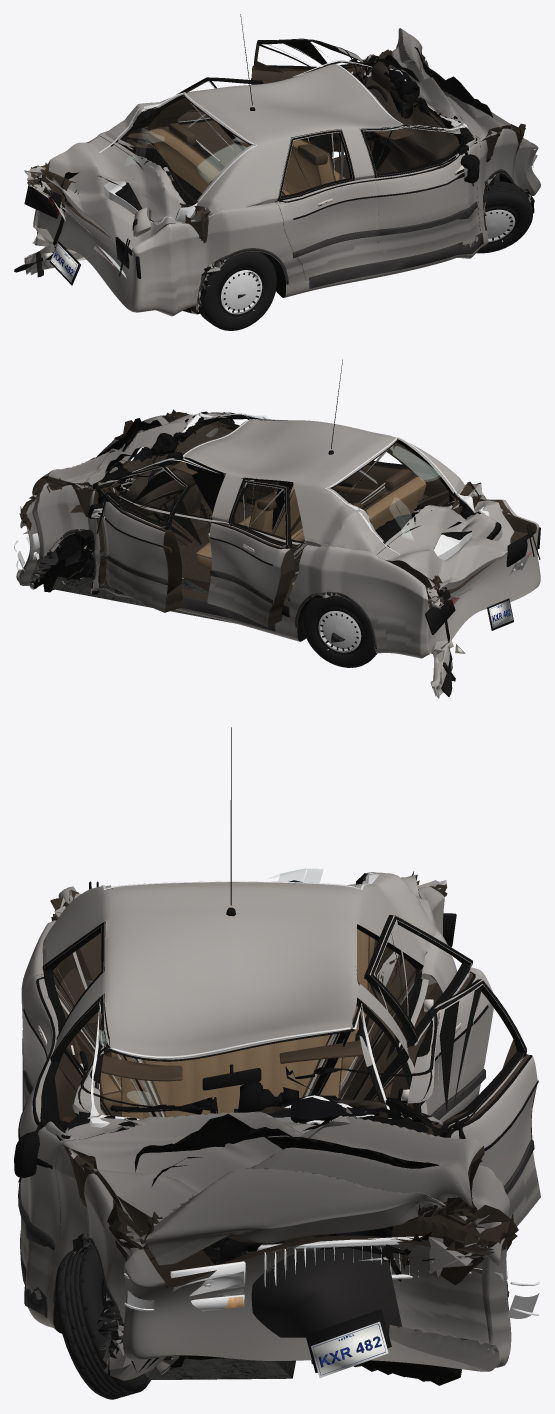
The model's file is sedan87_front_d3_lod1.glb.
3 views of the same model, one above another, from view 1: azimuth 30°, elevation 25°; view 2: azimuth 150°, elevation 25°; view 3: azimuth 270°, elevation 25° (orthographic). The views are drawn at different scales.
Parts seen in each view (by area): view 1: Body, Interior, Door_FR, Trunk, Door_RR, Wheel_RR_mesh, Hood, Glass, Trim, Wheel_FR_mesh, Door_FL, Trim_FR (+4 smaller); view 2: Body, Door_FL, Interior, Door_RL, Trunk, Wheel_RL_mesh, Glass, Hood, Trim, Ends, Underbody, Trim_FL (+4 smaller); view 3: Body, Hood, Interior, Door_FL, Engine, Ends, Door_FR, Door_RL, Wheel_FR_mesh, Trim, Glass, Door_RR (+5 smaller).
Boxes of the visible parts, box(x1,y1,x2,y2) form: Body: box(24, 43, 540, 316); Interior: box(148, 61, 459, 196); Door_FR: box(360, 116, 480, 261); Trunk: box(40, 136, 191, 254); Door_RR: box(275, 129, 383, 280); Wheel_RR_mesh: box(200, 251, 276, 330); Hood: box(375, 28, 517, 141); Glass: box(99, 60, 468, 225); Trim: box(197, 14, 533, 307); Wheel_FR_mesh: box(476, 181, 532, 253); Door_FL: box(251, 39, 379, 151); Trim_FR: box(360, 99, 479, 235); Body: box(16, 409, 540, 664); Door_FL: box(92, 466, 190, 612); Interior: box(121, 423, 426, 587); Door_RL: box(207, 480, 296, 627); Trunk: box(377, 495, 528, 592); Wheel_RL_mesh: box(302, 596, 377, 667); Glass: box(132, 413, 489, 560); Hood: box(29, 414, 192, 512); Trim: box(30, 359, 376, 649); Ends: box(14, 524, 540, 634); Underbody: box(52, 555, 465, 653); Trim_FL: box(88, 460, 186, 593); Body: box(21, 872, 518, 1385); Hood: box(62, 1106, 484, 1265); Interior: box(100, 929, 387, 1125); Door_FL: box(385, 979, 540, 1226); Engine: box(215, 1231, 401, 1337); Ends: box(55, 881, 539, 1377); Door_FR: box(19, 994, 135, 1295); Door_RL: box(364, 915, 493, 1122); Wheel_FR_mesh: box(55, 1245, 150, 1399); Trim: box(20, 727, 509, 1363); Glass: box(89, 868, 391, 1127); Door_RR: box(22, 921, 105, 1117).
Size of the model in its own units: 3.82 by 2.16 by 2.16.
33 materials, 5 textured.
